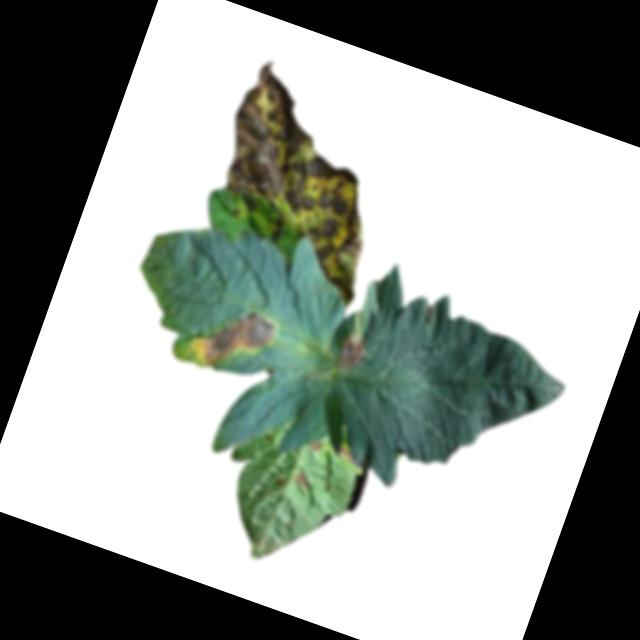Early_blight: (189, 60, 417, 302), (192, 296, 282, 384), (334, 334, 369, 375), (290, 467, 315, 491), (336, 448, 362, 469), (308, 439, 324, 455)
